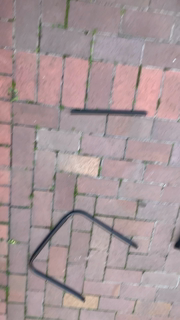C pipe: (27, 207, 141, 305)
i pipe: (70, 108, 148, 121)
